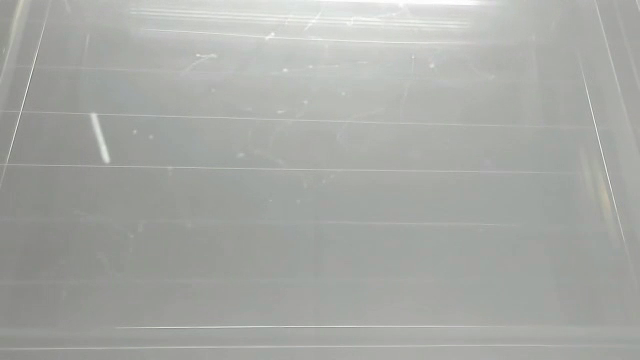alpha: (86, 109, 116, 167)
